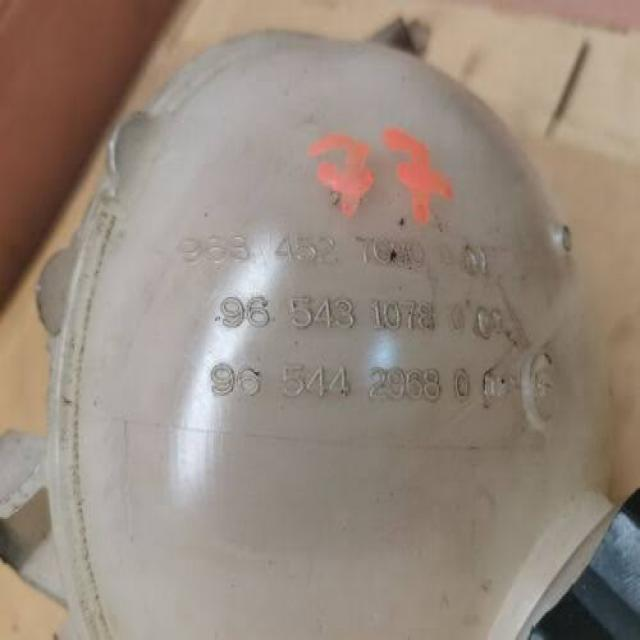ocr: (172, 226, 514, 408)
